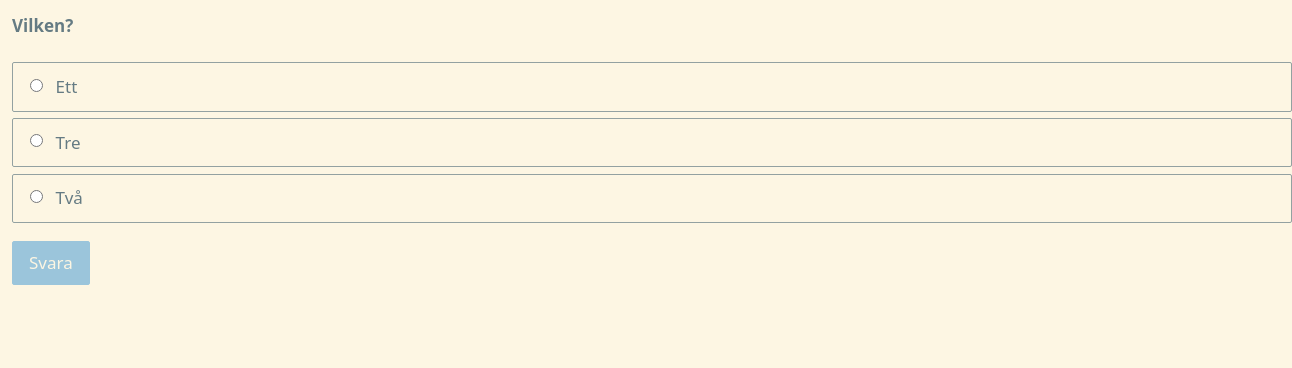
Mcq › marks a right answer and reports it
expect the button "Svara" is disabled: met, box [12,241,90,285]
Click the radio button labelled "Två" at (36, 196), box [30,190,43,203]
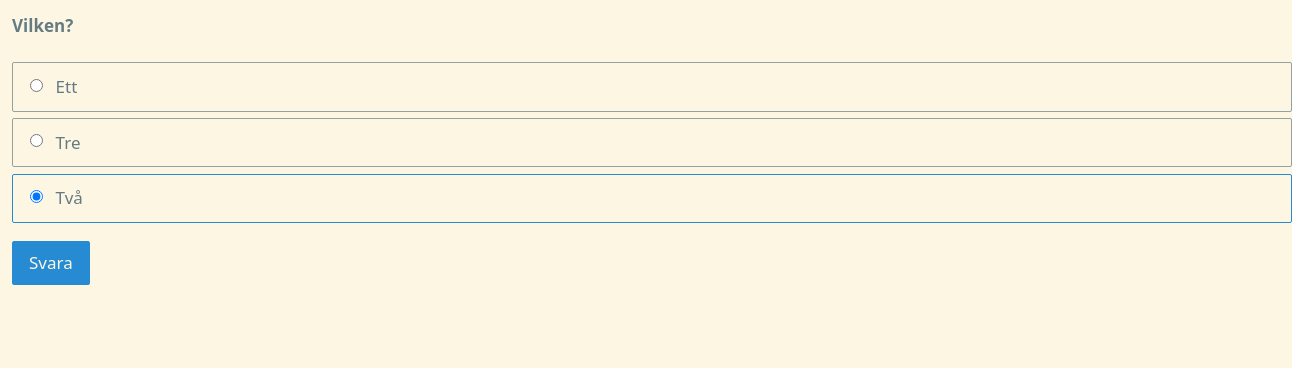
Click the button "Svara" at (51, 263), box [12,241,90,285]
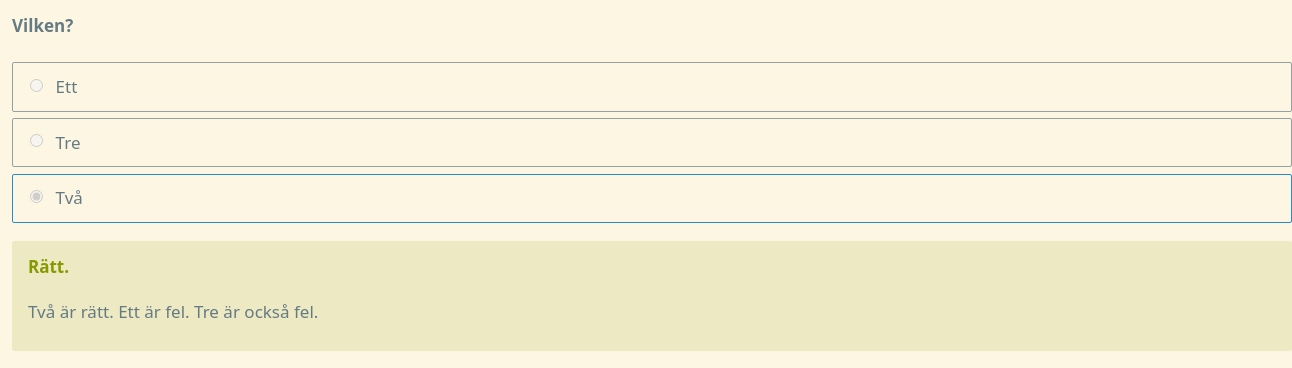
expect the text "Rätt." is shown: met, box [28,255,69,278]
expect the text "Två är rätt. Ett är fel. Tre är också fel." is shown: met, box [28,300,318,323]
